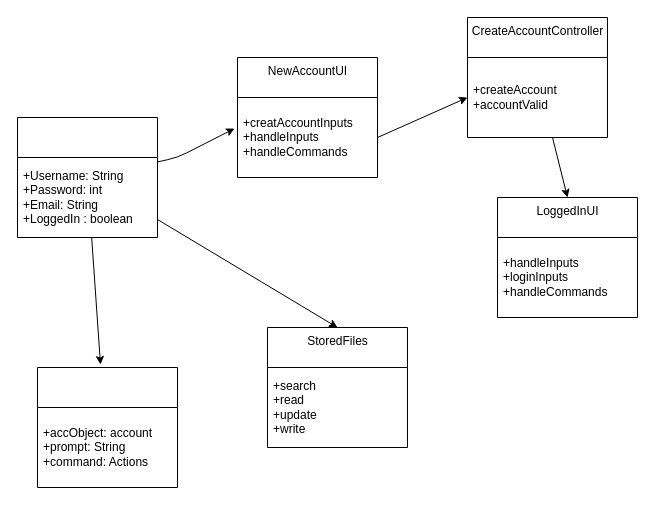
Image size: 655x505. Some labels were removed from this diagram. Here are the shapes that lost their labels. From the top down, the box of each, then its label:
(16, 116, 158, 238): Account
(36, 366, 178, 488): UITerminal
